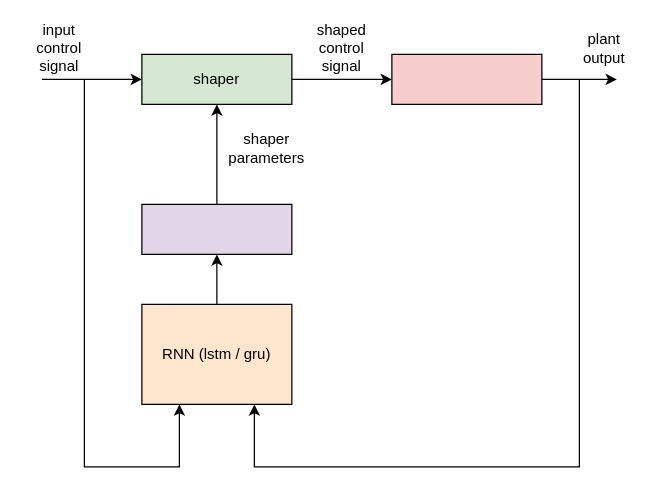
This 663x499 diagram has some shape labels left out. The shapes that lost their labels are listed below. From the top down, each one's centre as x and y in pixels, then its label:
At (466,78): "plant".
At (216,228): "linear".
